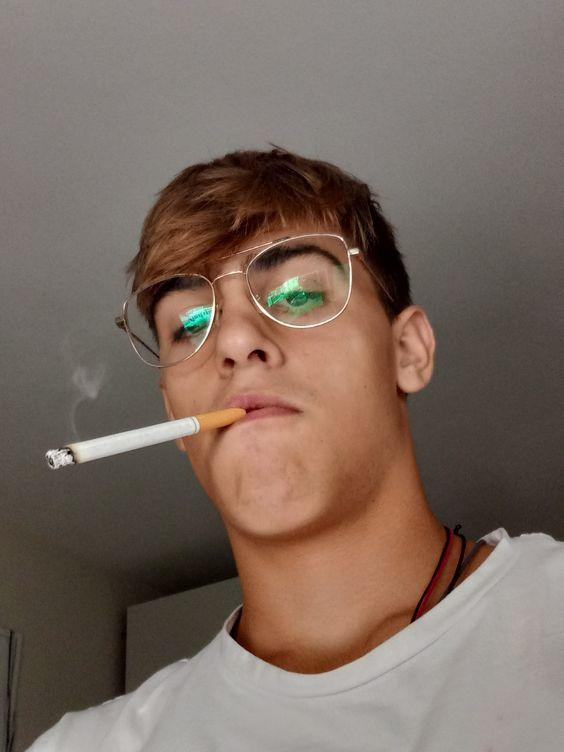cigarette: (44, 408, 247, 472)
